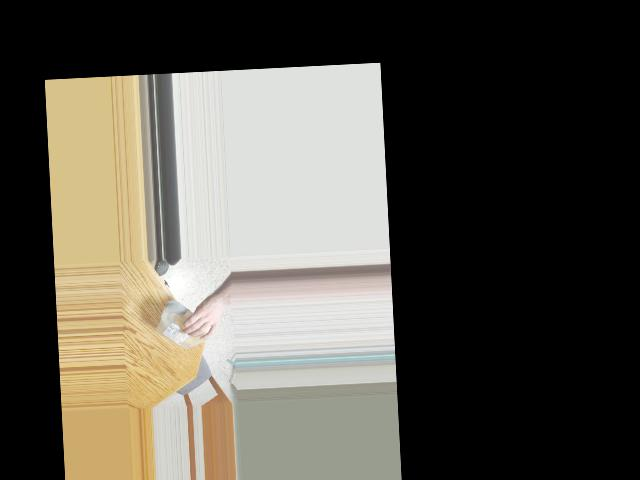cheese: (153, 304, 215, 353)
